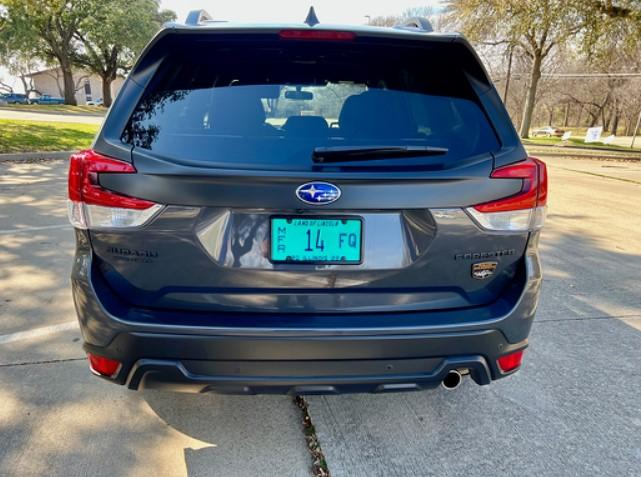subaru: (284, 174, 351, 210)
